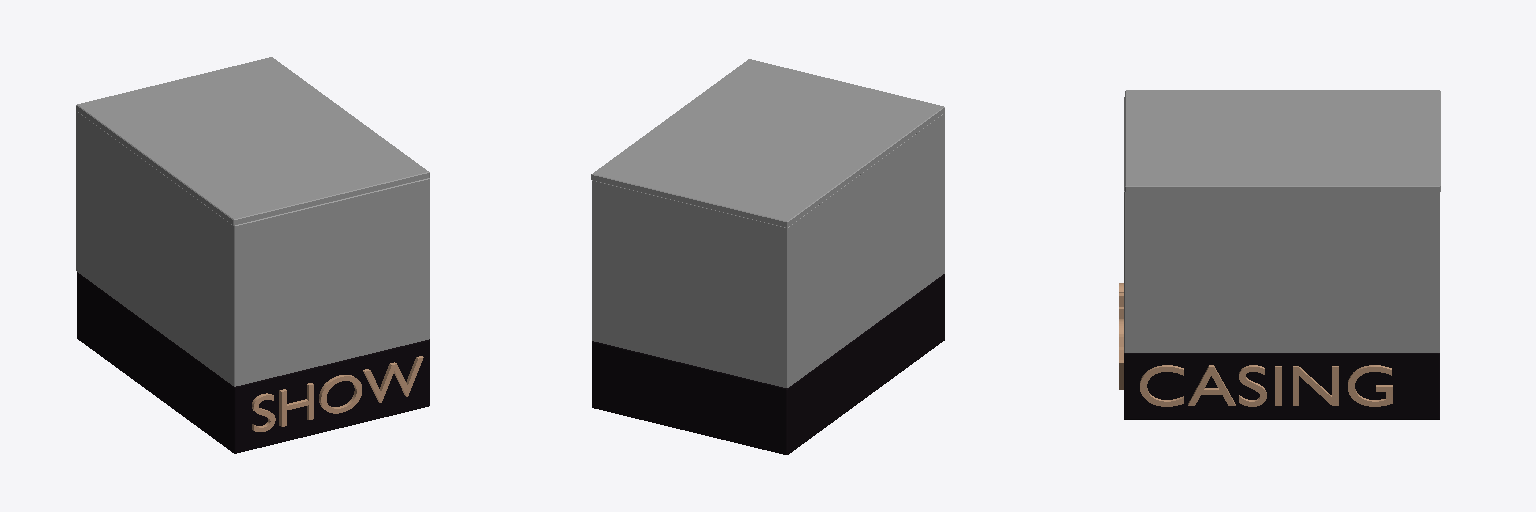
Rendered from thorshowcaseVRmaterialsCasealpha.obj.
3 views of the same model, side by side, from view 1: azimuth 30°, elevation 25°; view 2: azimuth 150°, elevation 25°; view 3: azimuth 270°, elevation 25° (orthographic).
Visible parts, largest first — view 1: Cube.002, Cube, Text.001_Mesh.001; view 2: Cube.002, Cube; view 3: Cube.002, Cube, Text.002_Mesh.002, Text.001_Mesh.001.
Boxes of the visible parts, x1=… form: Cube.002: x1=76, y1=57, x2=429, y2=386; Cube: x1=77, y1=272, x2=429, y2=453; Text.001_Mesh.001: x1=252, y1=356, x2=423, y2=431; Cube.002: x1=591, y1=59, x2=944, y2=387; Cube: x1=592, y1=274, x2=944, y2=454; Cube.002: x1=1124, y1=90, x2=1440, y2=352; Cube: x1=1124, y1=353, x2=1439, y2=419; Text.002_Mesh.002: x1=1140, y1=365, x2=1392, y2=406; Text.001_Mesh.001: x1=1119, y1=283, x2=1123, y2=389.
Size of the model in its own units: 0.9977 by 1.12 by 1.39.